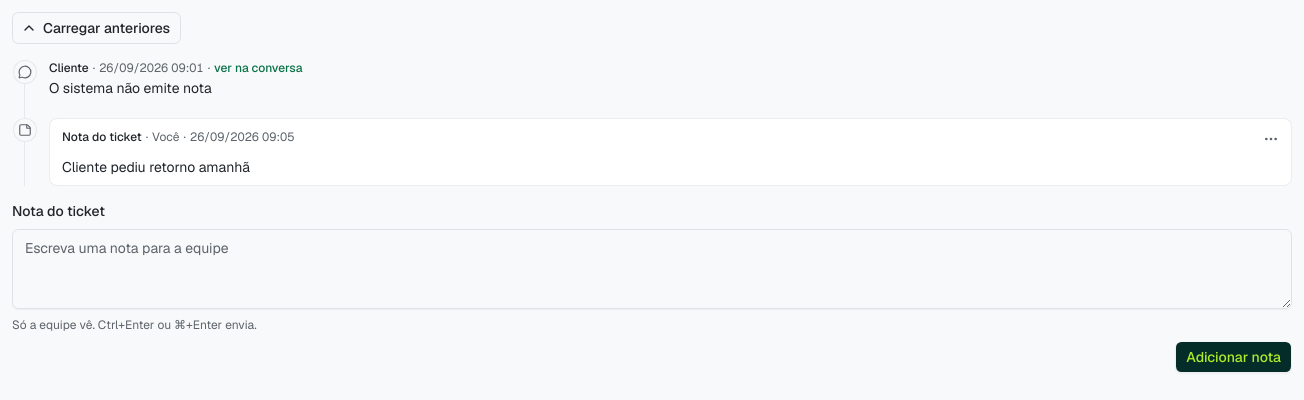
it: TicketTimeline › Carregar anteriores manda o cursor com o + codificado e junta sem duplicar
Click the button "Carregar anteriores" at (97, 28), box [12,12,181,44]
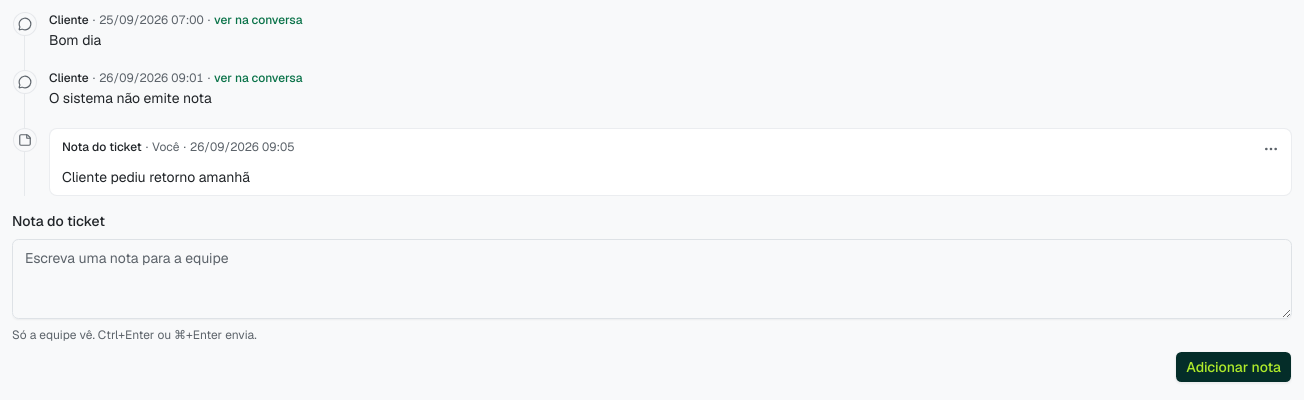
Now the number of list items is 3, box [13,12,302,49]; [13,70,302,107]; [25,128,1292,196]
Now the list item "Cliente · 25/09/2026 07:00 · ver na conversa Bom dia" is shown, box [13,12,302,49]
Now the button "Carregar anteriores" is gone
